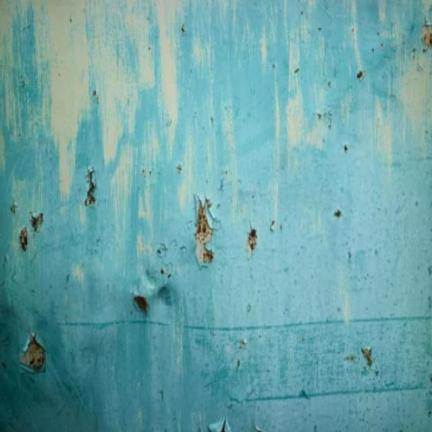besi_tidak_karat: (0, 0, 431, 431)
karat: (196, 198, 213, 265), (20, 334, 45, 372)
